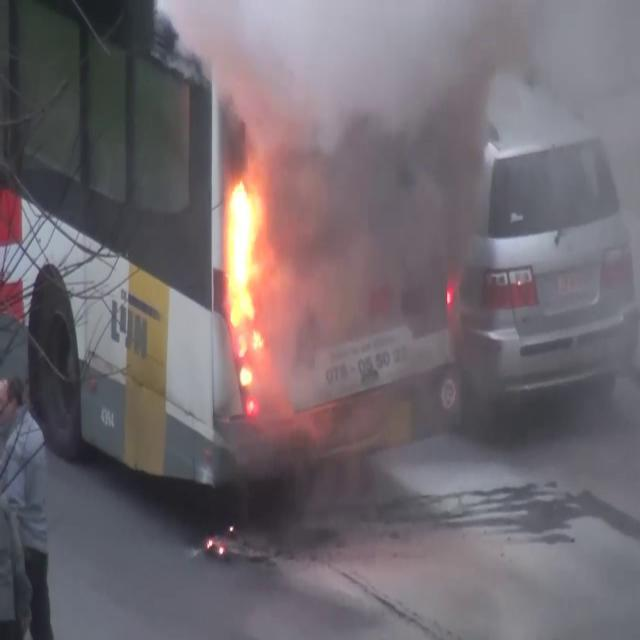Fire: (222, 164, 270, 374)
Smoke: (259, 0, 580, 396)
